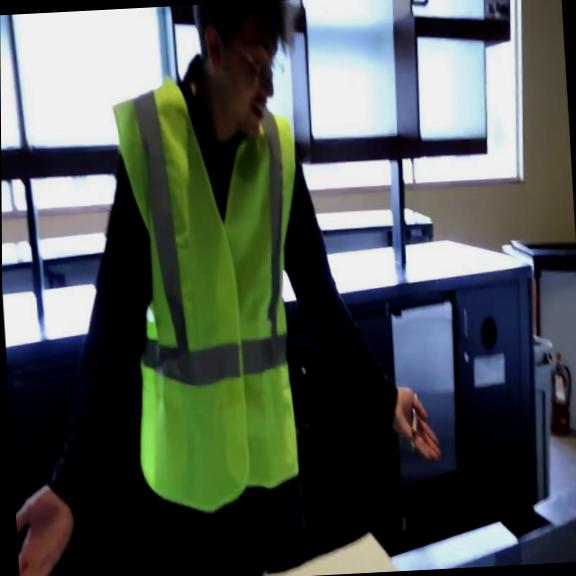safety_vest: (110, 63, 316, 516)
